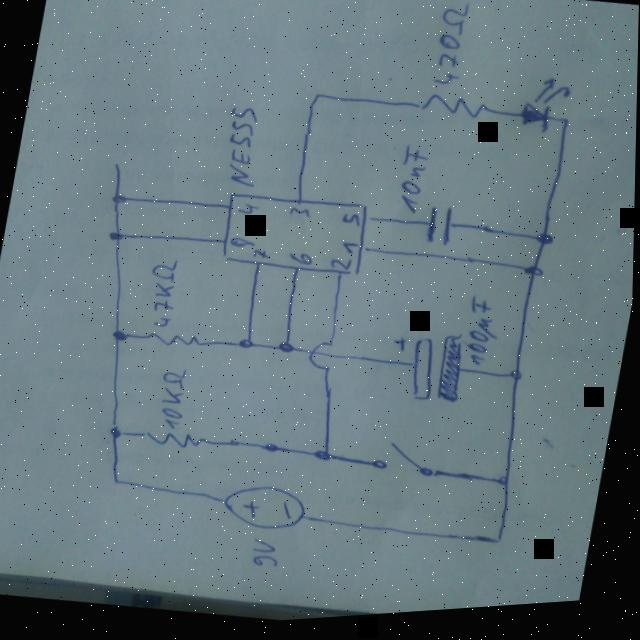capacitor: (406, 336, 469, 414), (423, 209, 460, 254)
crossover: (307, 341, 339, 377)
diode: (515, 80, 575, 147)
junction: (269, 332, 305, 365), (234, 333, 261, 361), (306, 90, 335, 114), (484, 535, 512, 559), (553, 118, 578, 140), (109, 326, 132, 346), (534, 237, 558, 256), (493, 479, 514, 499), (524, 269, 548, 286), (107, 229, 129, 247), (313, 451, 335, 469), (110, 192, 131, 210), (109, 425, 128, 444), (509, 373, 529, 391), (263, 443, 283, 459), (112, 475, 127, 490)
resistor: (413, 92, 492, 131), (140, 425, 214, 457), (142, 327, 215, 358)
source: (221, 480, 312, 541)
switch: (368, 439, 446, 489)
text: (216, 103, 270, 193), (429, 5, 474, 95), (392, 146, 441, 224), (460, 300, 505, 374), (143, 258, 184, 332), (155, 366, 195, 434), (250, 537, 287, 574), (288, 254, 316, 271), (229, 238, 258, 253), (289, 208, 314, 224), (330, 260, 355, 276), (342, 215, 364, 233), (238, 205, 261, 220), (341, 244, 360, 260), (254, 251, 273, 265)
